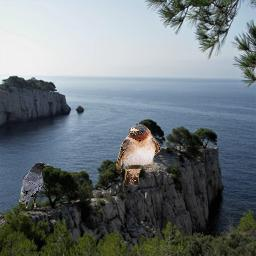Crow: (18, 162, 51, 209)
Swallow: (116, 124, 160, 186)
